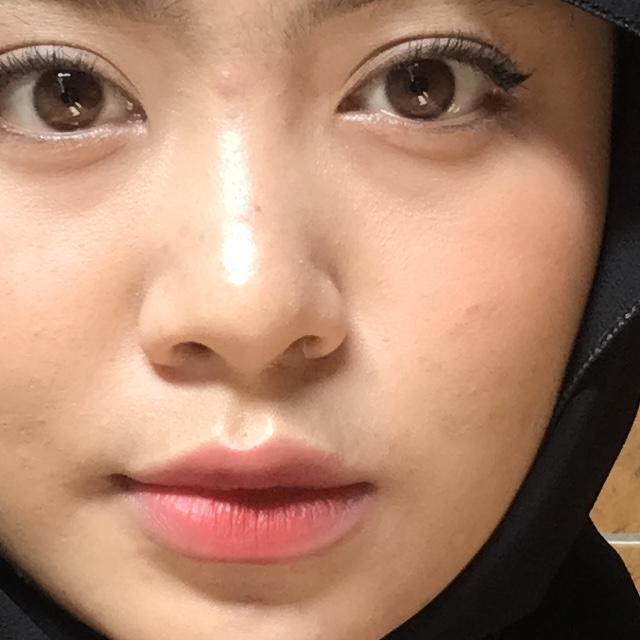ibu: (0, 136, 260, 640)
